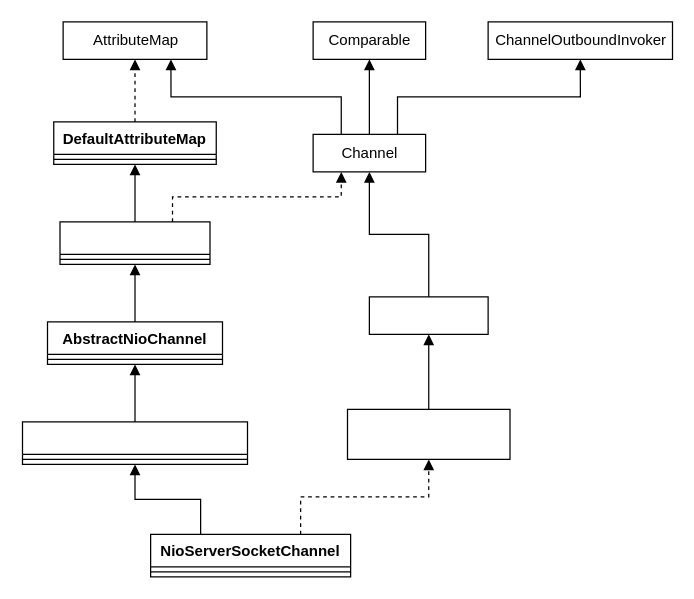
Some shapes in this 694 by 599 pixel diagram are drawn without their labels. The shapes that lost their labels are listed below. From the top down, each one's centre as x and y in pixels, then its label:
[134,242]: AbstractChannel
[428,315]: ServerChannel
[134,442]: AbstractNioMessageChannel
[428,433]: ServerSocketChannel
